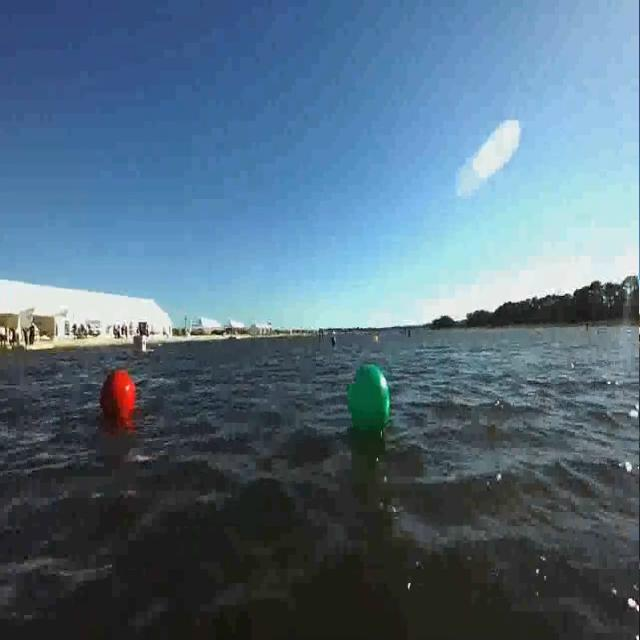green-buoy: (345, 362, 392, 435)
red-buoy: (100, 368, 135, 418)
yellow-buoy: (374, 337, 381, 348)
